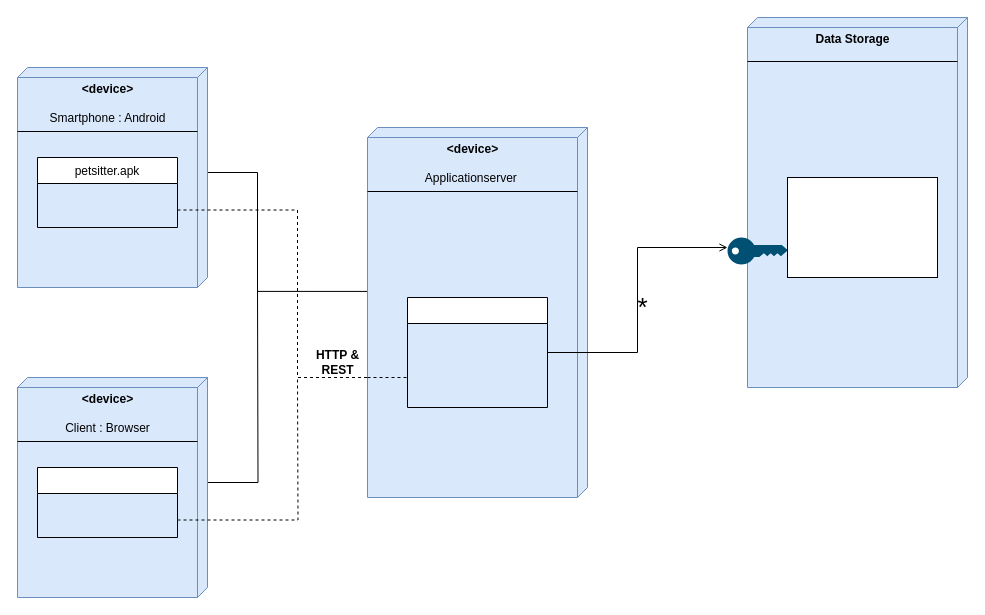
This 985x615 diagram has some shape labels left out. The shapes that lost their labels are listed below. From the top down, each one's centre as x and y in pixels, then its label:
At point (862, 227): "petsitter.sql".
At point (477, 352): "petsitter_server.jar".
At point (107, 502): "angular.js".
